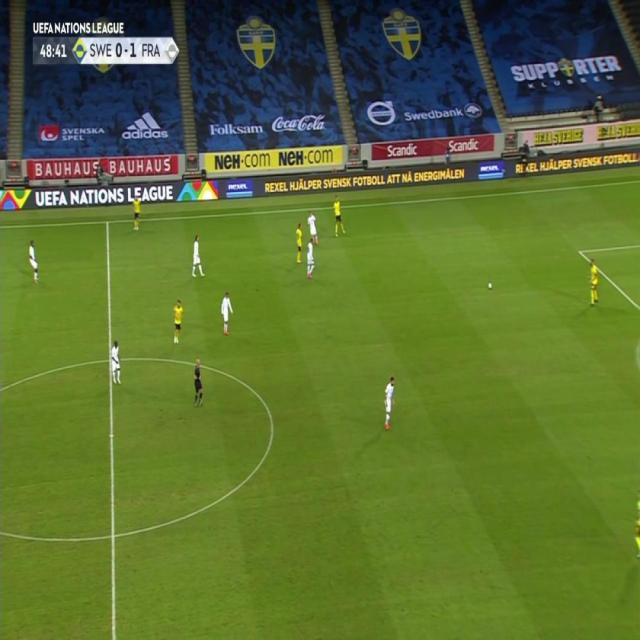ball: (487, 280, 493, 289)
player: (382, 375, 398, 432), (190, 233, 206, 279), (109, 338, 123, 386), (171, 297, 185, 345), (587, 257, 600, 307), (26, 238, 40, 283), (220, 291, 234, 335), (332, 196, 347, 237), (306, 210, 321, 246), (294, 221, 306, 264), (306, 239, 317, 280), (131, 193, 142, 232)
referee: (192, 356, 205, 408)
